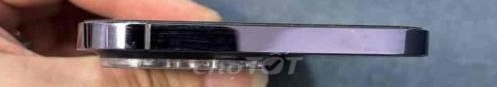scratch: (96, 20, 211, 49), (349, 23, 383, 42)
